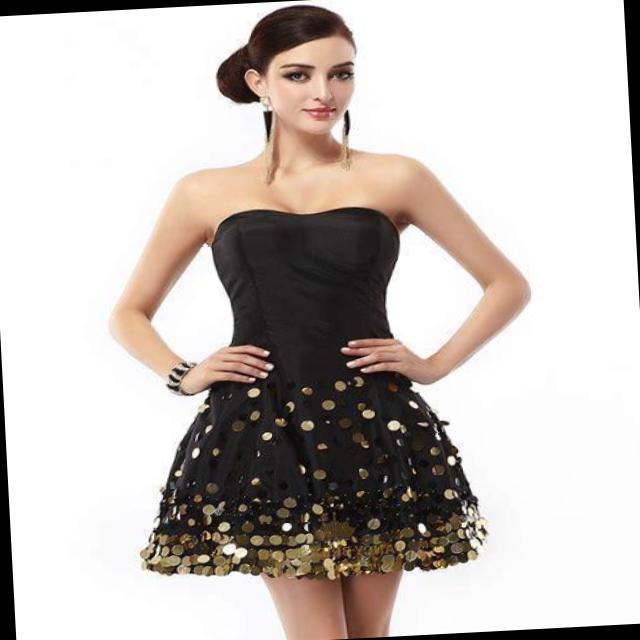dress: (123, 199, 490, 590)
